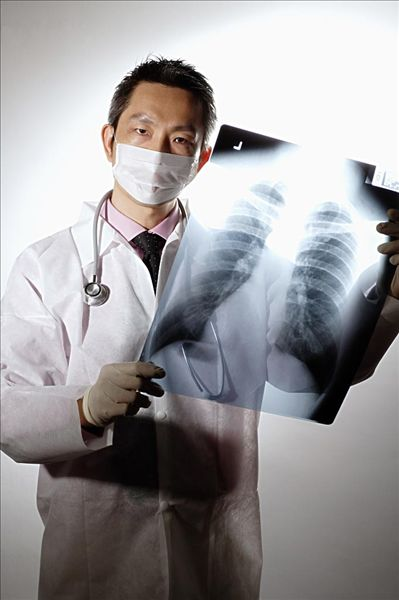face_mask: (117, 91, 199, 205)
